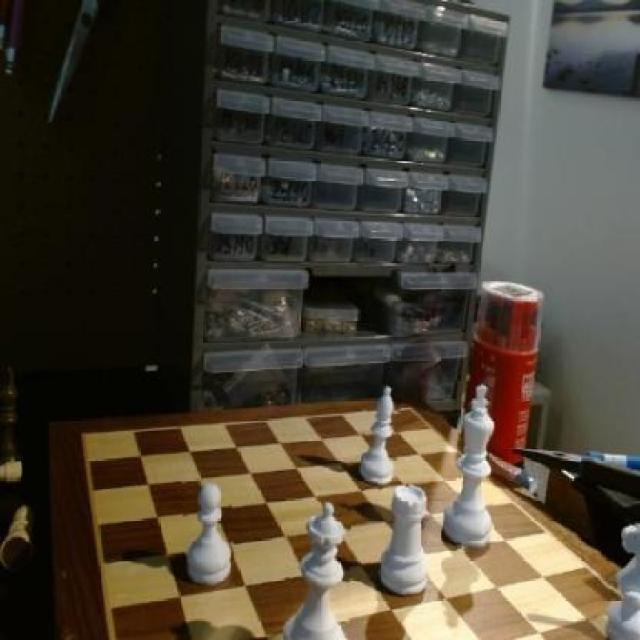black-rook: (360, 383, 399, 492)
white-bishop: (448, 378, 494, 552)
white-king: (598, 512, 638, 640)
white-knight: (182, 478, 233, 591)
white-pawn: (284, 498, 350, 640)
white-queen: (383, 486, 428, 604)
